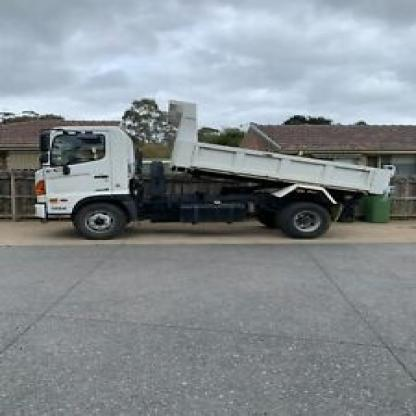dump_truck: (28, 93, 394, 244)
